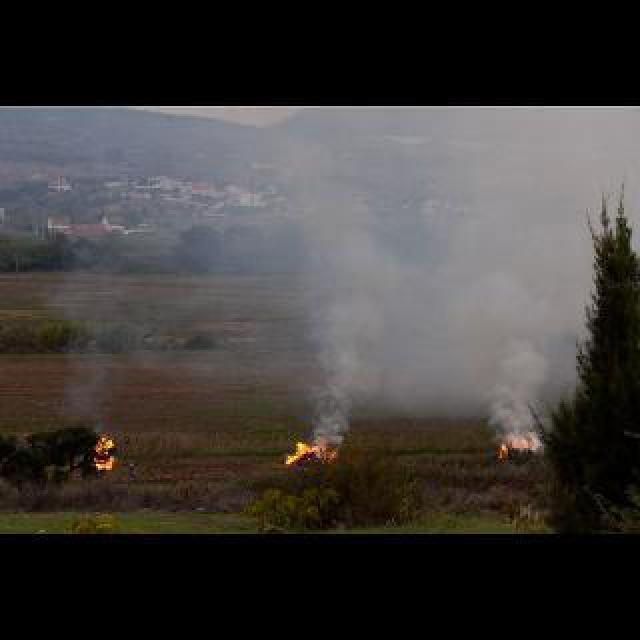Fire: (284, 438, 334, 464), (90, 432, 112, 468), (496, 434, 530, 456)
Smoke: (482, 366, 540, 448), (306, 368, 362, 442)
